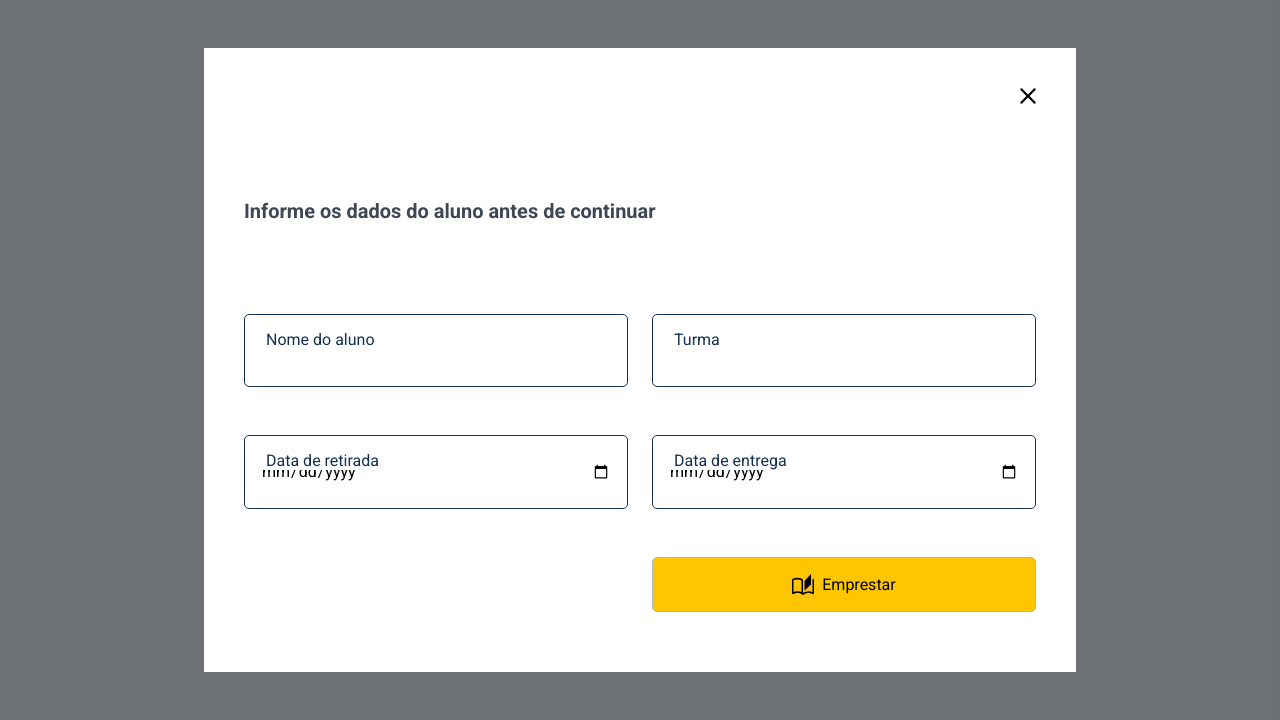
Test case: <BookDataBorrow /> › should throw an error when date1 is higher than date2
The image size is (1280, 720).
Type "2023-03-28" into the date field with test id "withdrawalDateInput" at (436, 472), box [244,435,628,509]
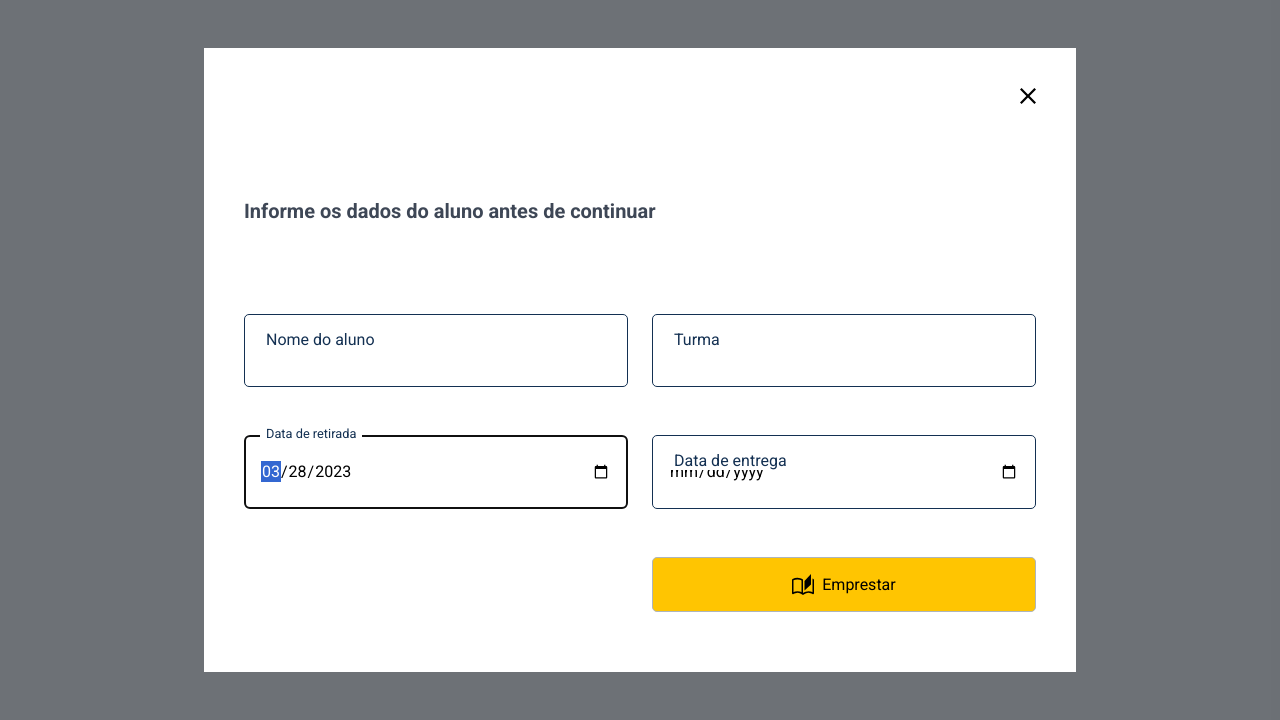
Type "2023-03-23" into the date field with test id "deliveryDateInput" at (844, 472), box [652,435,1036,509]
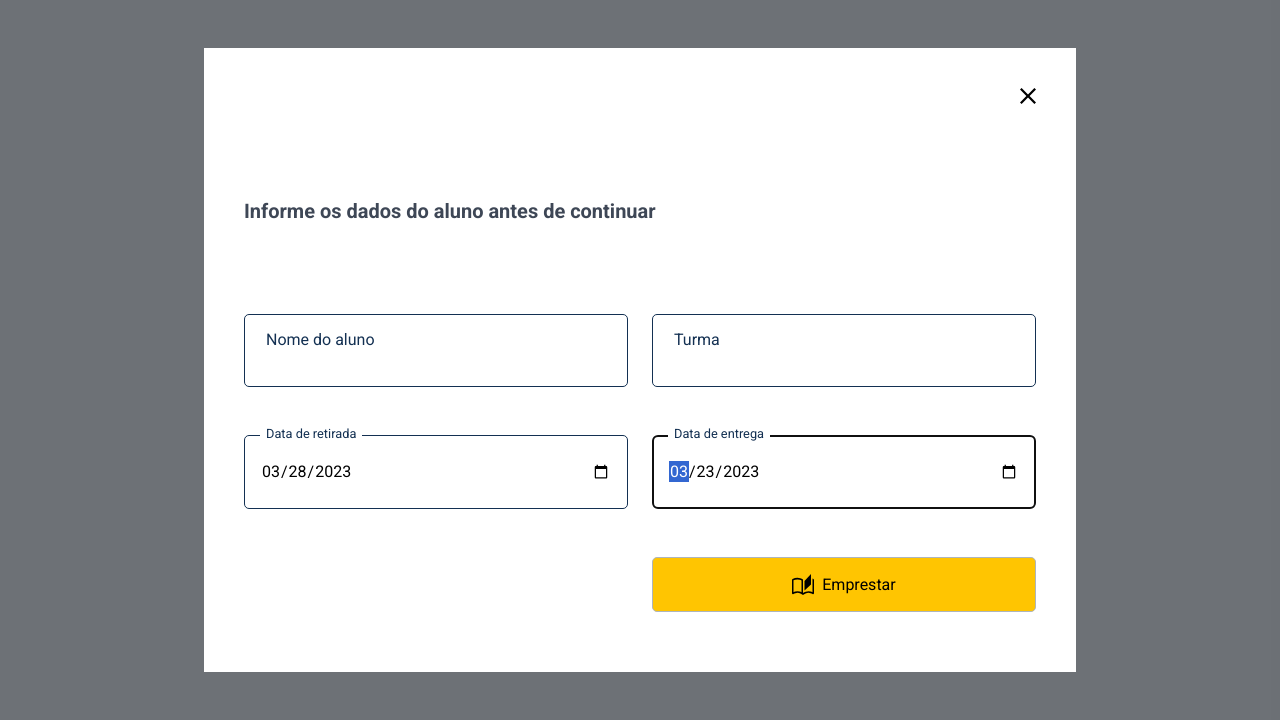
Click the button with test id "submitButton" at (844, 585), box [652,557,1036,612]
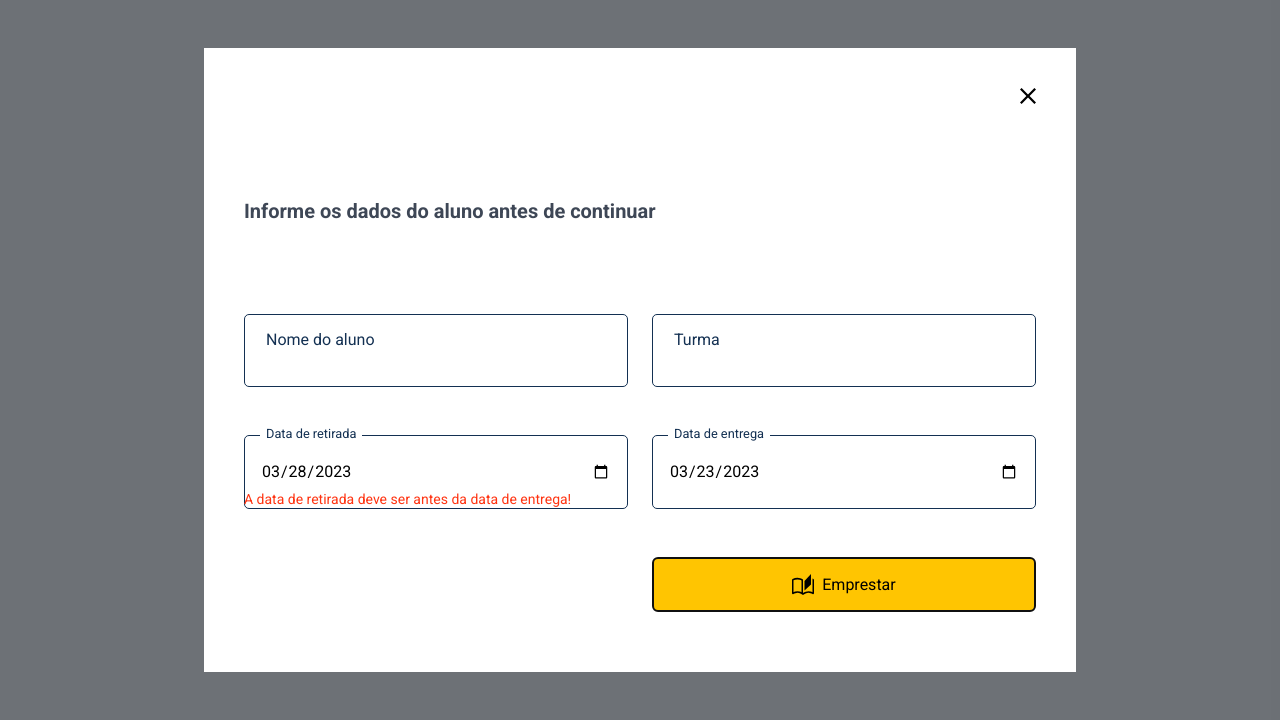
Expected: the text with test id "errorWithdrawalDate" reads "A data de retirada deve ser antes da data de entrega!", [244,491,571,507]
